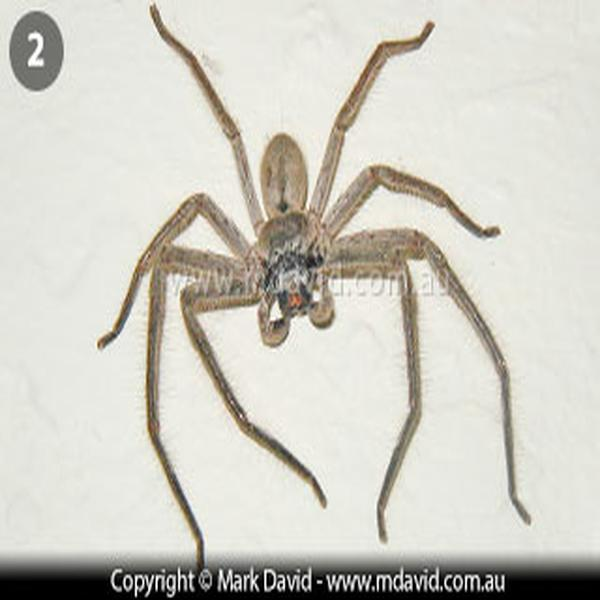Huntsman Spider: (105, 12, 528, 547)
